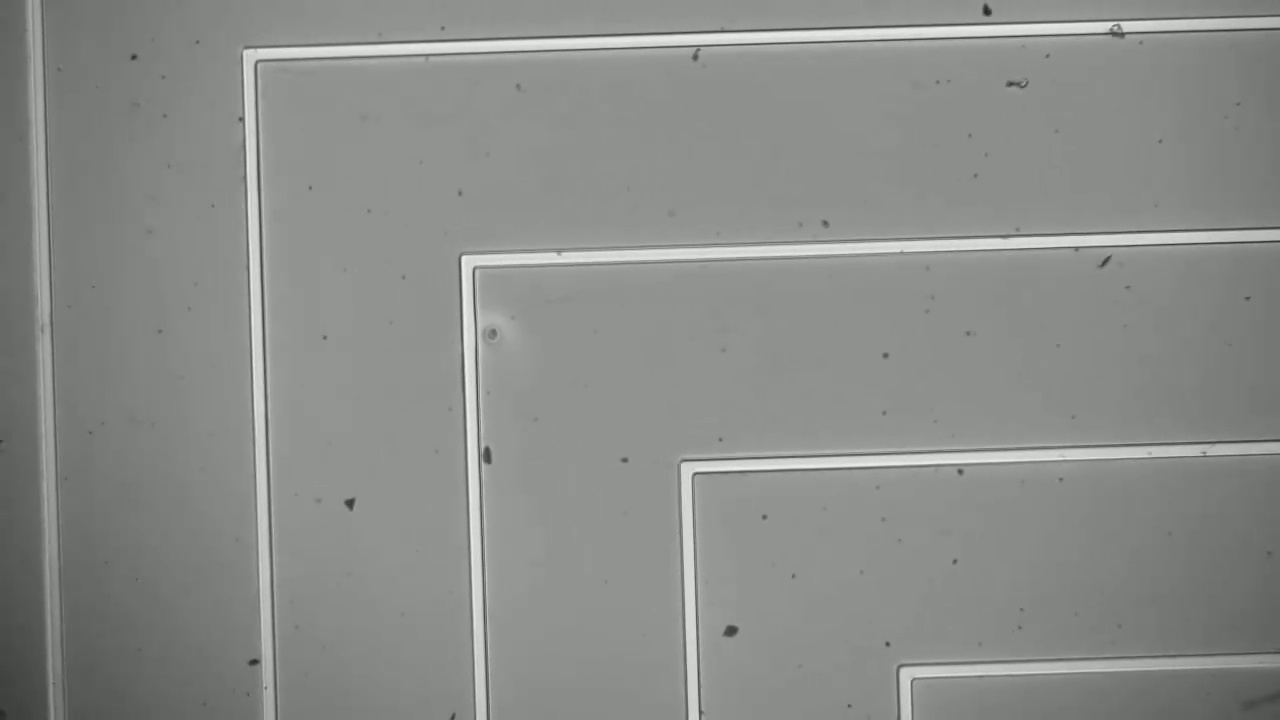stains_enbedded: (1103, 19, 1137, 49)
